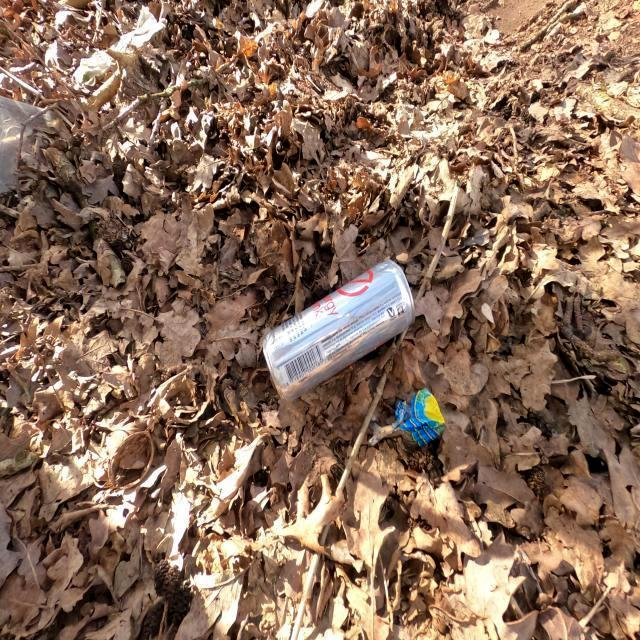Metal: (262, 258, 416, 402)
Plastic: (391, 386, 445, 448)
